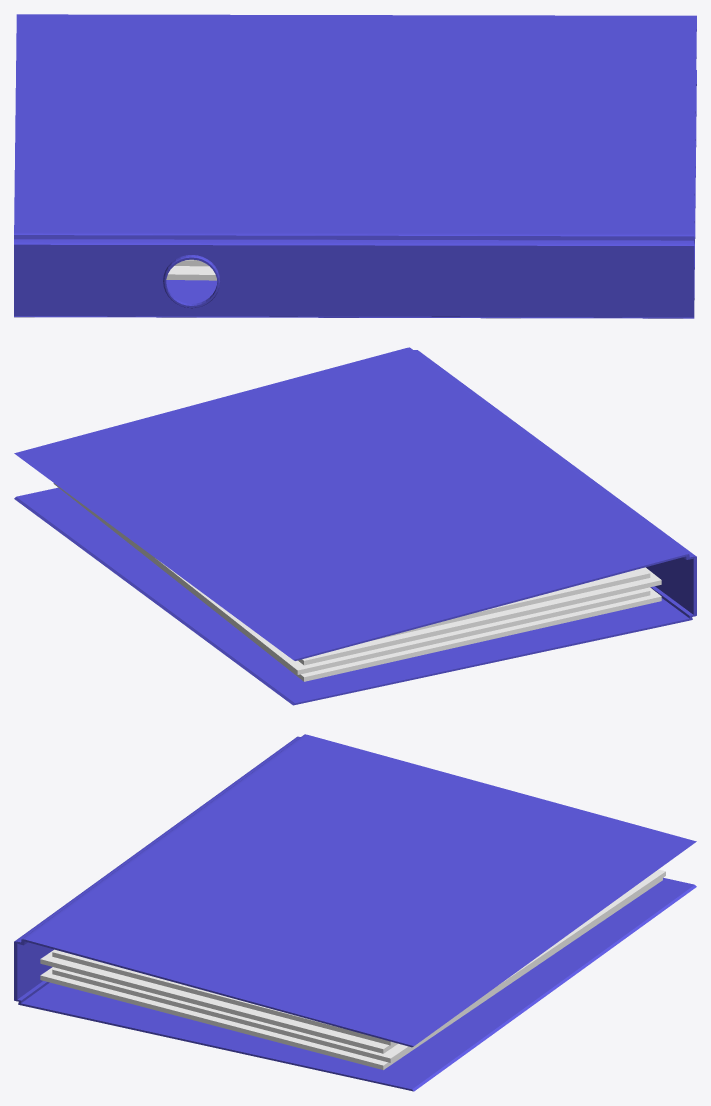
The model's file is documents_-2.fbx.
The picture shows the model from 3 angles, top to bottom: view 1: azimuth 30°, elevation 25°; view 2: azimuth 150°, elevation 25°; view 3: azimuth 270°, elevation 25°; orthographic projection. The views are drawn at different scales.
Parts seen in each view (by area): view 1: 平面.001, Cube.006; view 2: 平面.001, Cube.008, Cube.006, Cube.009, Cube.007; view 3: 平面.001, Cube.008, Cube.006, Cube.009, Cube.007.
Part boxes in pixels (left/top/right/bottom): 平面.001: left=14, top=14, right=696, bottom=318; Cube.006: left=166, top=266, right=216, bottom=280; 平面.001: left=14, top=347, right=696, bottom=705; Cube.008: left=68, top=493, right=650, bottom=674; Cube.006: left=53, top=483, right=661, bottom=681; Cube.009: left=298, top=567, right=661, bottom=665; Cube.007: left=372, top=568, right=650, bottom=640; 平面.001: left=14, top=734, right=696, bottom=1091; Cube.008: left=52, top=869, right=665, bottom=1062; Cube.006: left=40, top=878, right=662, bottom=1069; Cube.009: left=40, top=949, right=397, bottom=1053; Cube.007: left=52, top=950, right=394, bottom=1045.
Bounding box in the file's own units: 378 × 38.82 × 360.
